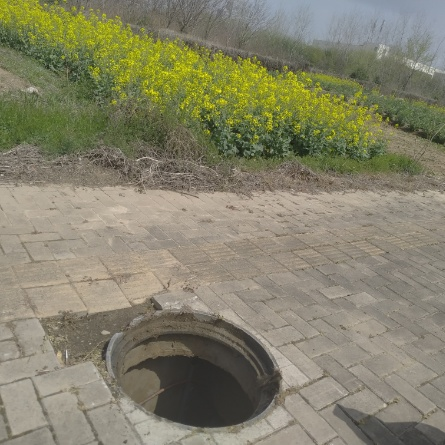well: (105, 308, 282, 431)
